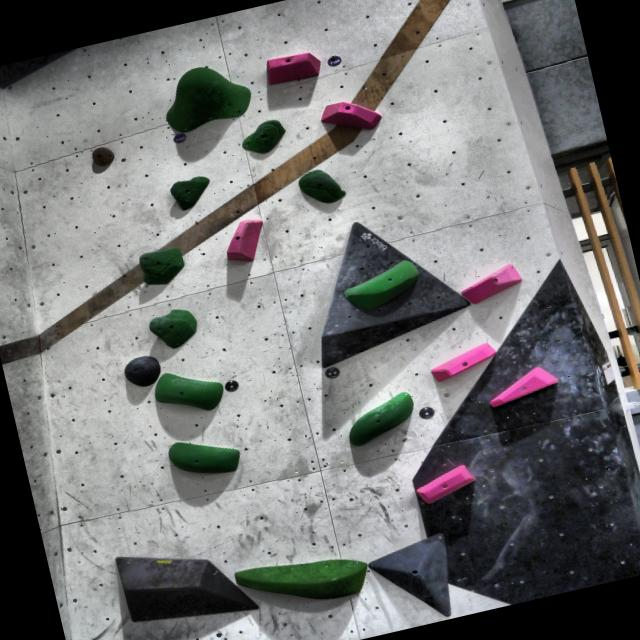Hold: (228, 530, 374, 628), (150, 54, 254, 138), (326, 252, 435, 317), (161, 422, 248, 486), (478, 356, 566, 416), (339, 393, 418, 457), (452, 252, 530, 313), (124, 238, 205, 290), (155, 362, 227, 418), (418, 337, 502, 382), (214, 215, 280, 268), (317, 84, 377, 136), (256, 40, 320, 88), (157, 168, 220, 215), (143, 302, 200, 353), (233, 116, 294, 160), (292, 163, 348, 208), (118, 354, 171, 390)
